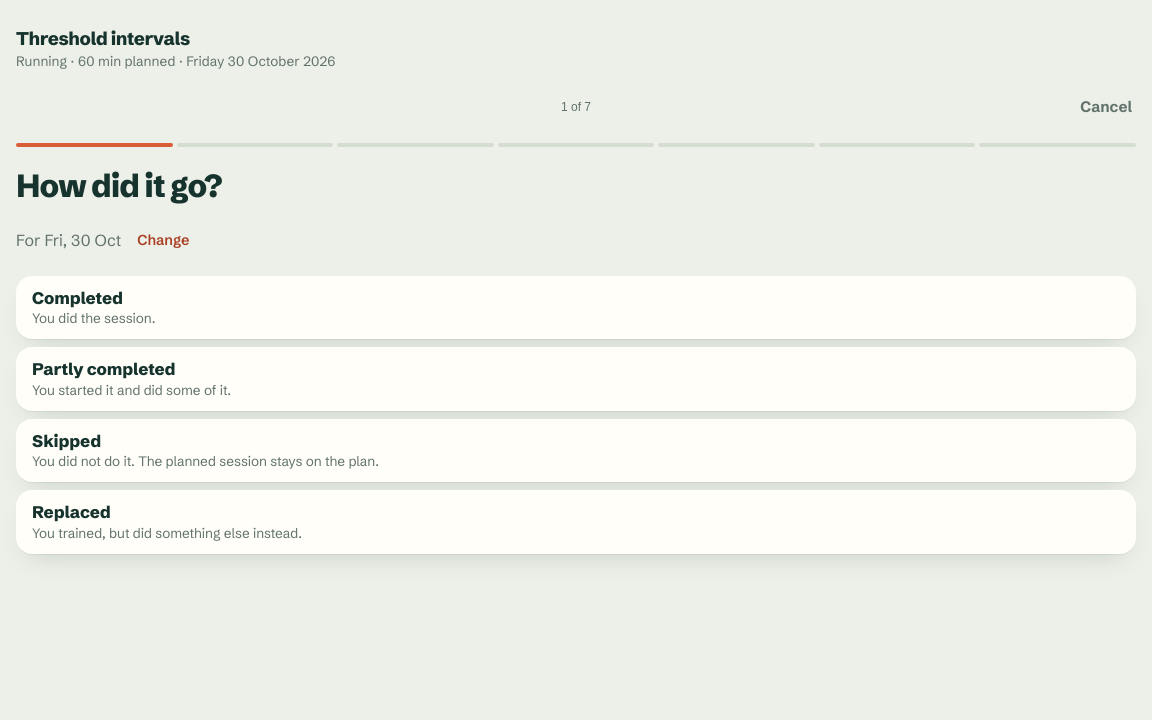
Test case: Log › offers the week's unplanned training for a replaced session to point at
This screenshot has width=1152, height=720.
Click the button "Replaced You trained, but did something else instead.": (71, 512) 16,490 -> 1136,554
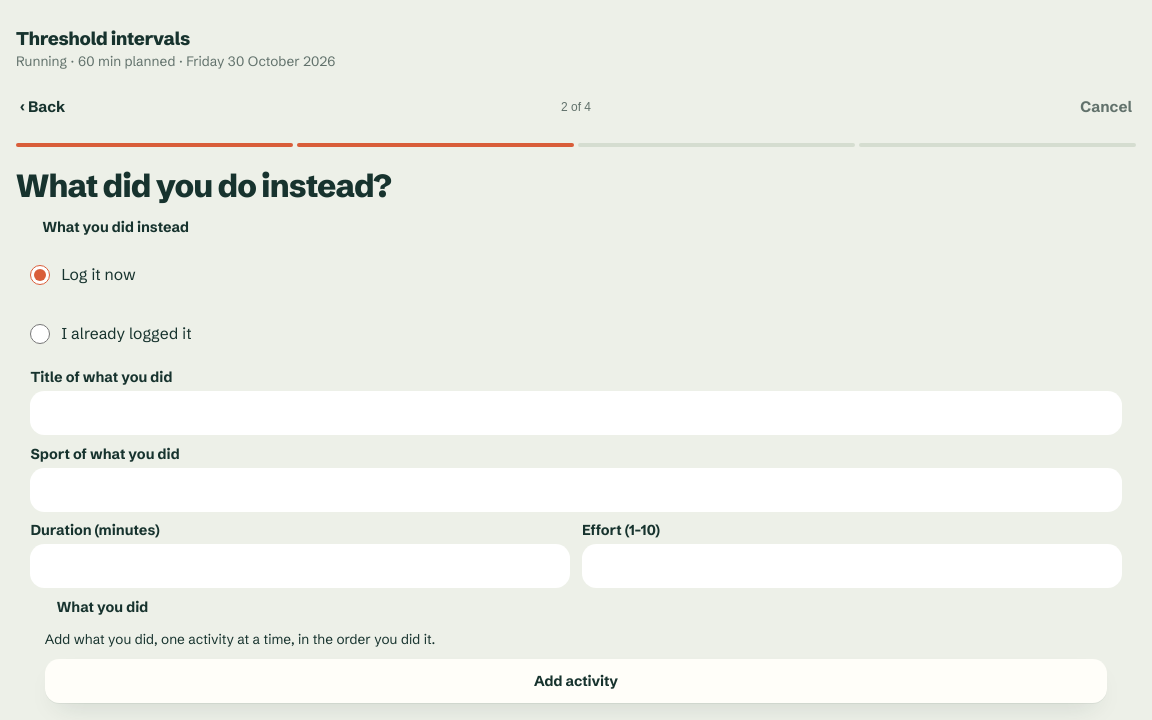
Click the radio button labelled "I already logged it": (40, 334) 30,309 -> 50,359
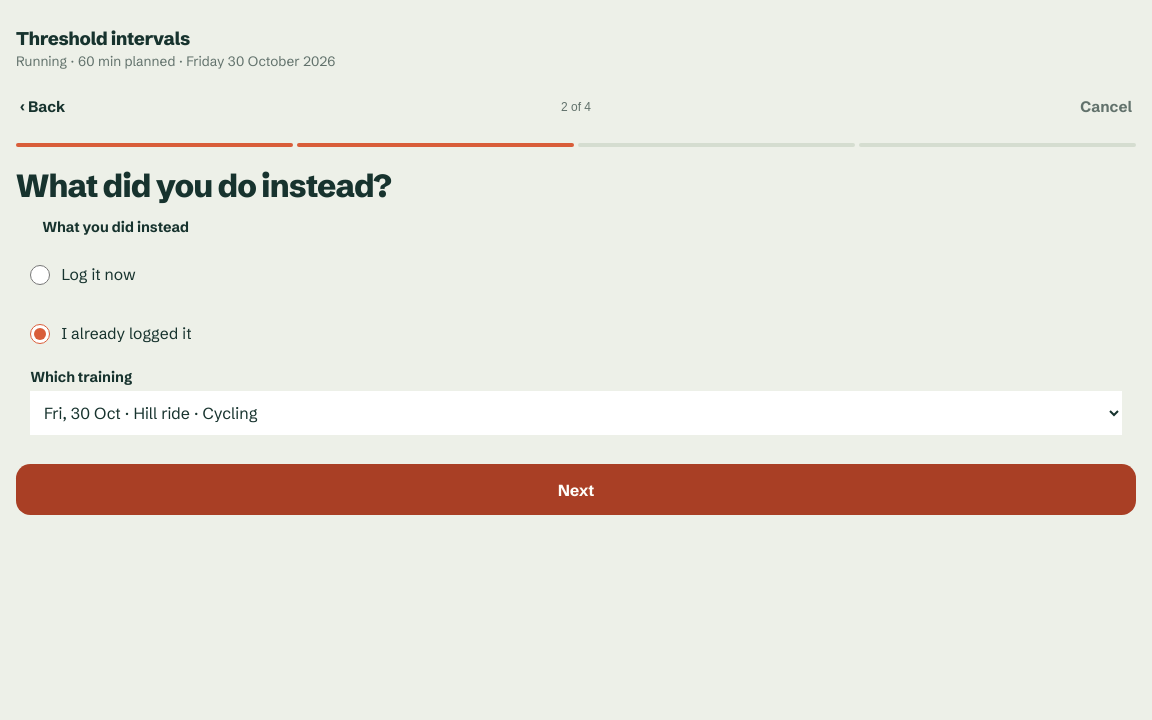
Check: the dropdown labelled "Which training" shows "Fri, 30 Oct · Hill ride · Cycling", box 30,391 -> 1122,435
